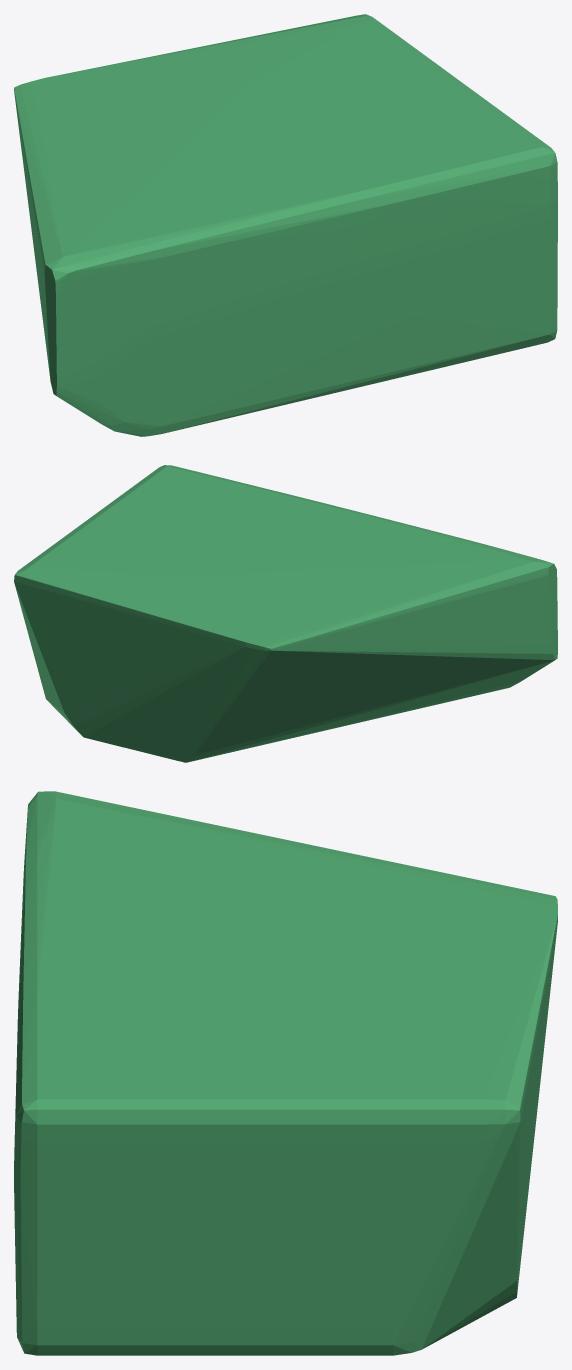
Rendered from right-shin-0_part_3.obj.
3 views of the same model, one above another, from view 1: azimuth 30°, elevation 25°; view 2: azimuth 150°, elevation 25°; view 3: azimuth 270°, elevation 25° (orthographic). The views are drawn at different scales.
Bounding box in the file's own units: 0.0908 × 0.0336 × 0.0651.
